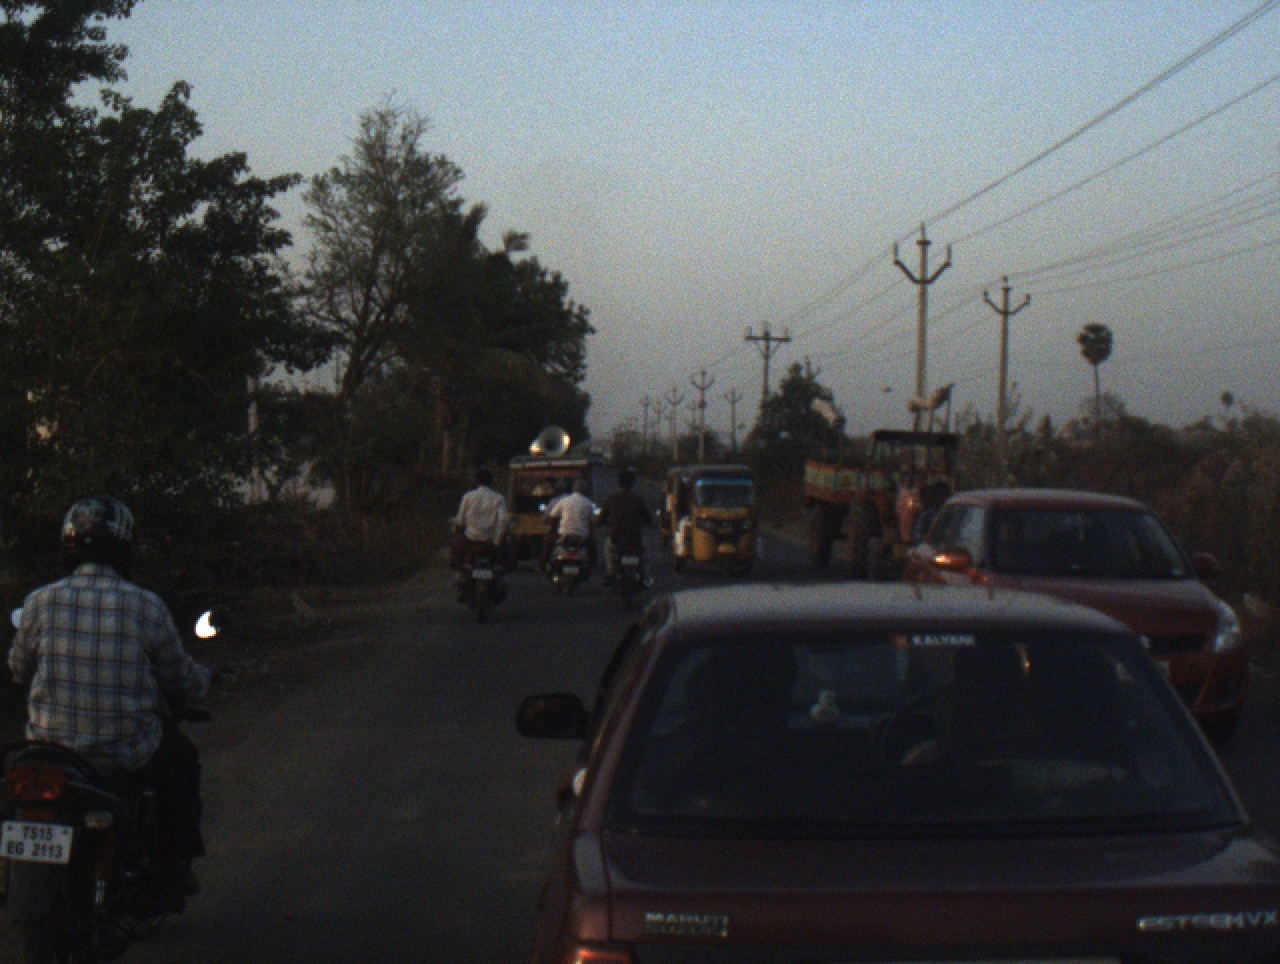autorickshaw: (657, 462, 765, 580)
car: (513, 565, 1280, 964), (903, 487, 1250, 751), (501, 425, 600, 571)
motorcycle: (1, 595, 236, 964), (442, 510, 521, 628), (594, 507, 666, 609), (539, 509, 607, 601), (536, 501, 595, 568)
rider: (6, 492, 225, 902), (591, 464, 662, 586), (450, 464, 515, 591), (450, 479, 510, 587), (544, 474, 601, 574), (539, 480, 575, 560), (919, 474, 956, 554), (906, 484, 939, 541)
truck: (583, 441, 609, 470)
vehicle fallback: (800, 429, 964, 574)
